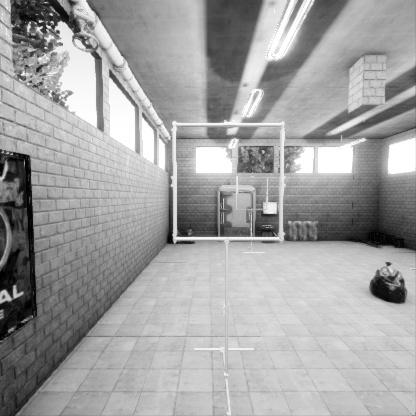gate: (175, 181, 290, 295), (236, 207, 269, 240)
